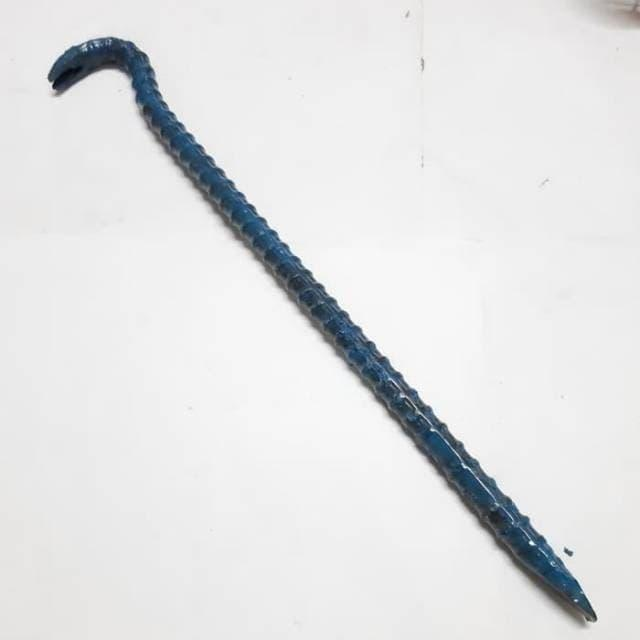Linggis: (39, 28, 608, 630)
